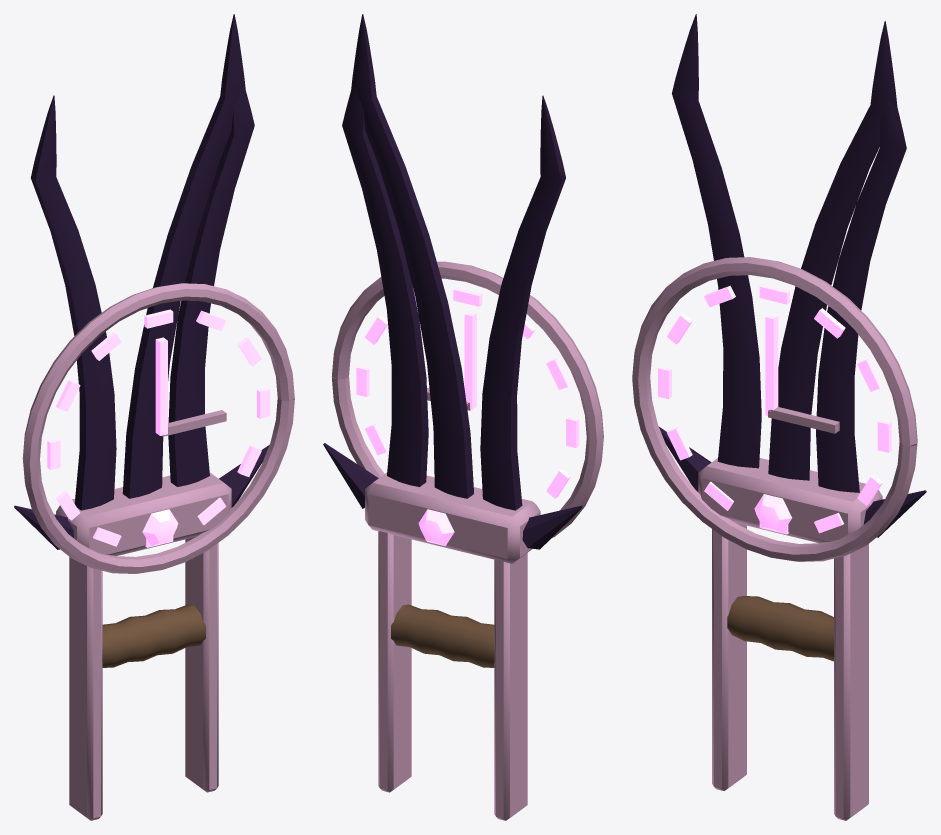
File: fa_talons_of_the_long_dusk.glb
3 renders of one model, left to right at view 1: azimuth 30°, elevation 25°; view 2: azimuth 150°, elevation 25°; view 3: azimuth 330°, elevation 25°, orthographic. The views are drawn at different scales.
Parts seen in each view (by area): view 1: fa_talons_of_the_long_dusk; view 2: fa_talons_of_the_long_dusk; view 3: fa_talons_of_the_long_dusk.
Boxes of the visible parts, <box> form: fa_talons_of_the_long_dusk: <box>14,14,294,820</box>; fa_talons_of_the_long_dusk: <box>323,14,603,820</box>; fa_talons_of_the_long_dusk: <box>632,14,926,820</box>.
Size of the model in its own units: 0.21 by 0.565 by 0.0616.
